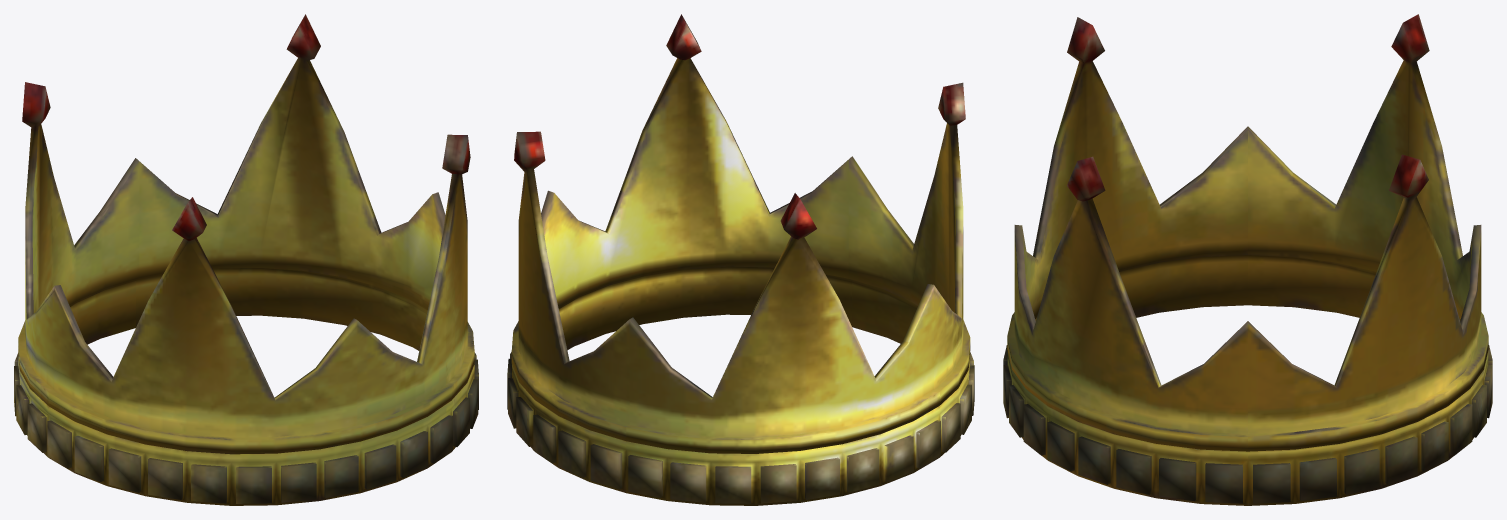
The model's file is Crown.dae.
3 renders of one model, left to right at view 1: azimuth 30°, elevation 25°; view 2: azimuth 150°, elevation 25°; view 3: azimuth 270°, elevation 25°, orthographic. The views are drawn at different scales.
Visible parts, largest first — view 1: Crown; view 2: Crown; view 3: Crown.
Part boxes in pixels (x1,y1,x2,y2): Crown: (14,14,478,505); Crown: (507,14,974,505); Crown: (1003,14,1492,505).
Size of the model in its own units: 1.48 by 1.48 by 1.06.
Materials: 1 (1 with a texture image).
